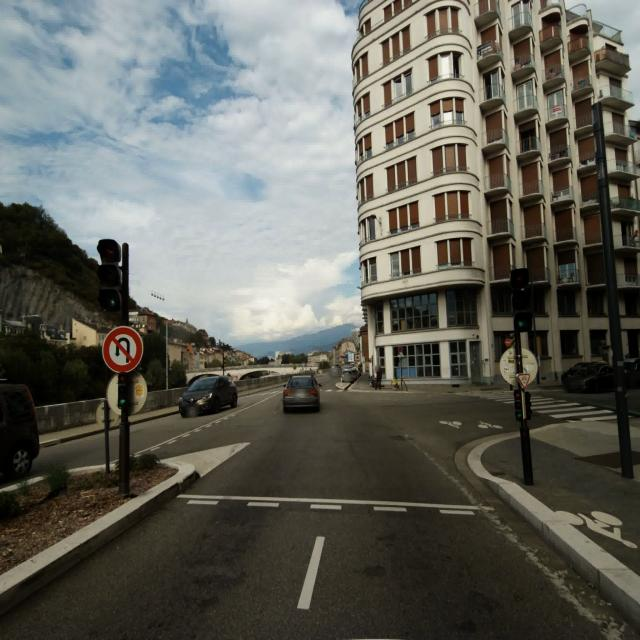car: (0, 378, 41, 486), (179, 376, 238, 416), (565, 362, 628, 393), (282, 373, 321, 412), (561, 359, 608, 388), (625, 356, 640, 389), (342, 367, 354, 383)
